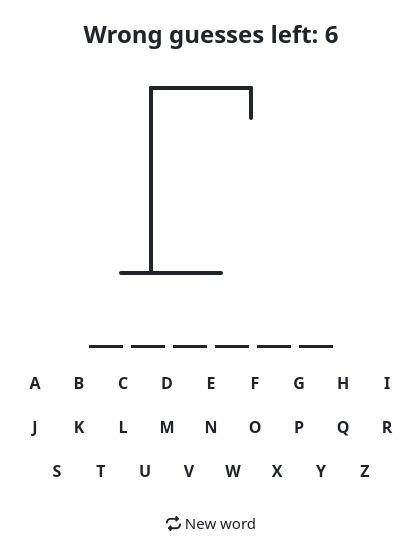
six wrong guesses loses and reveals the word
Click the button "z": x=365, y=471 [346,452,384,490]
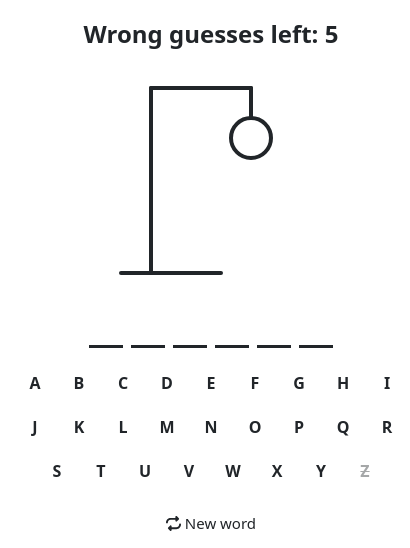
Click the button "x": x=277, y=471 [258,452,296,490]
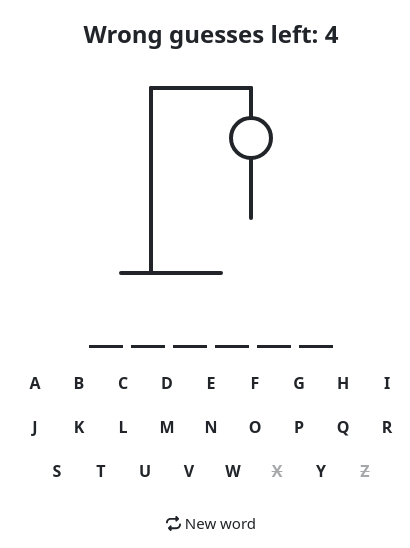
Click the button "q": x=343, y=427 [324,408,362,446]
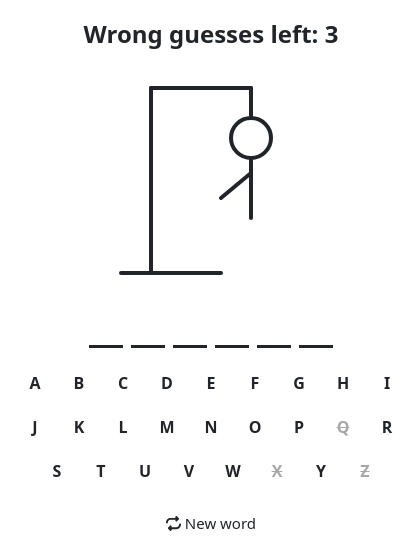
Click the button "w": x=233, y=471 [214,452,252,490]
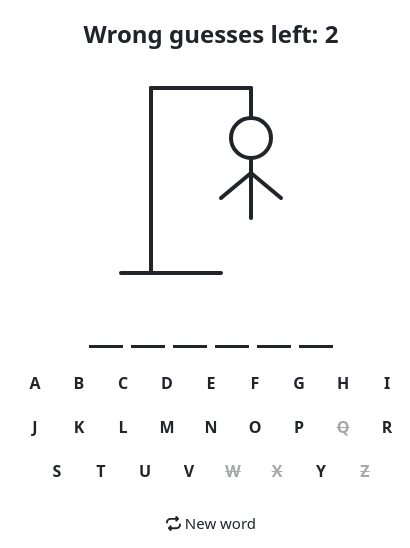
Click the button "k": x=79, y=427 [60,408,98,446]
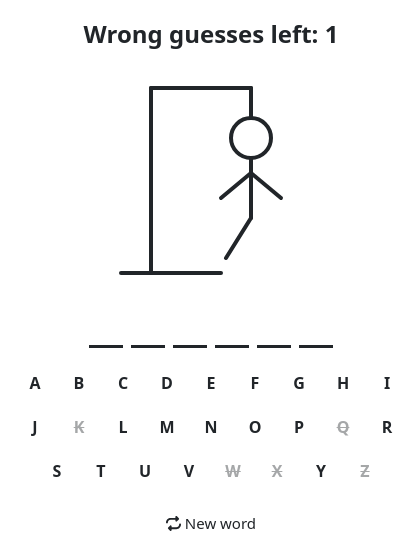
Click the button "j": x=35, y=427 [16,408,54,446]
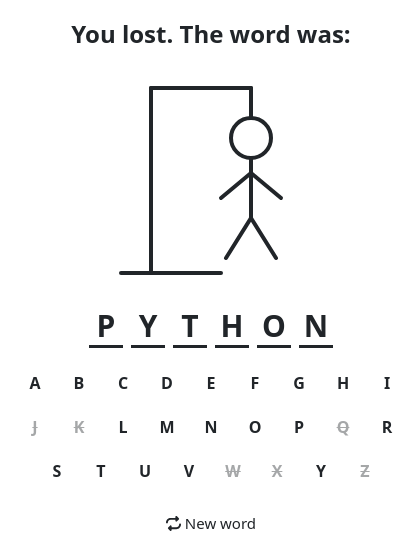
expect the text "You lost. The word was:" is shown: met, box [71,16,351,52]
expect the element named "word to guess" reads "p y t h o n": met, box [89,304,333,348]
